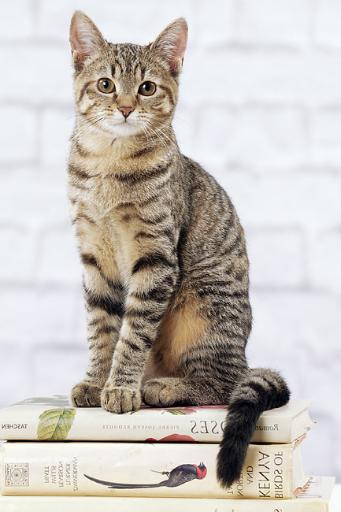cat_sitting: (68, 11, 289, 487)
